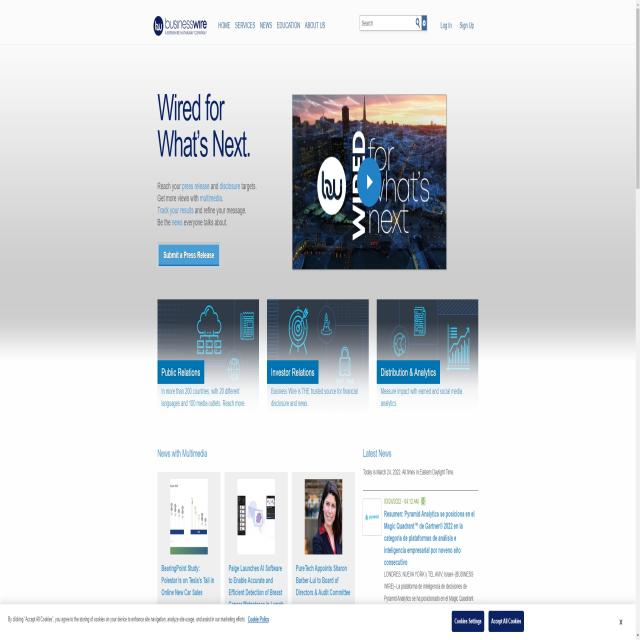content: (153, 174, 260, 237)
menu-bar: (218, 17, 329, 32)
search: (361, 16, 428, 34)
